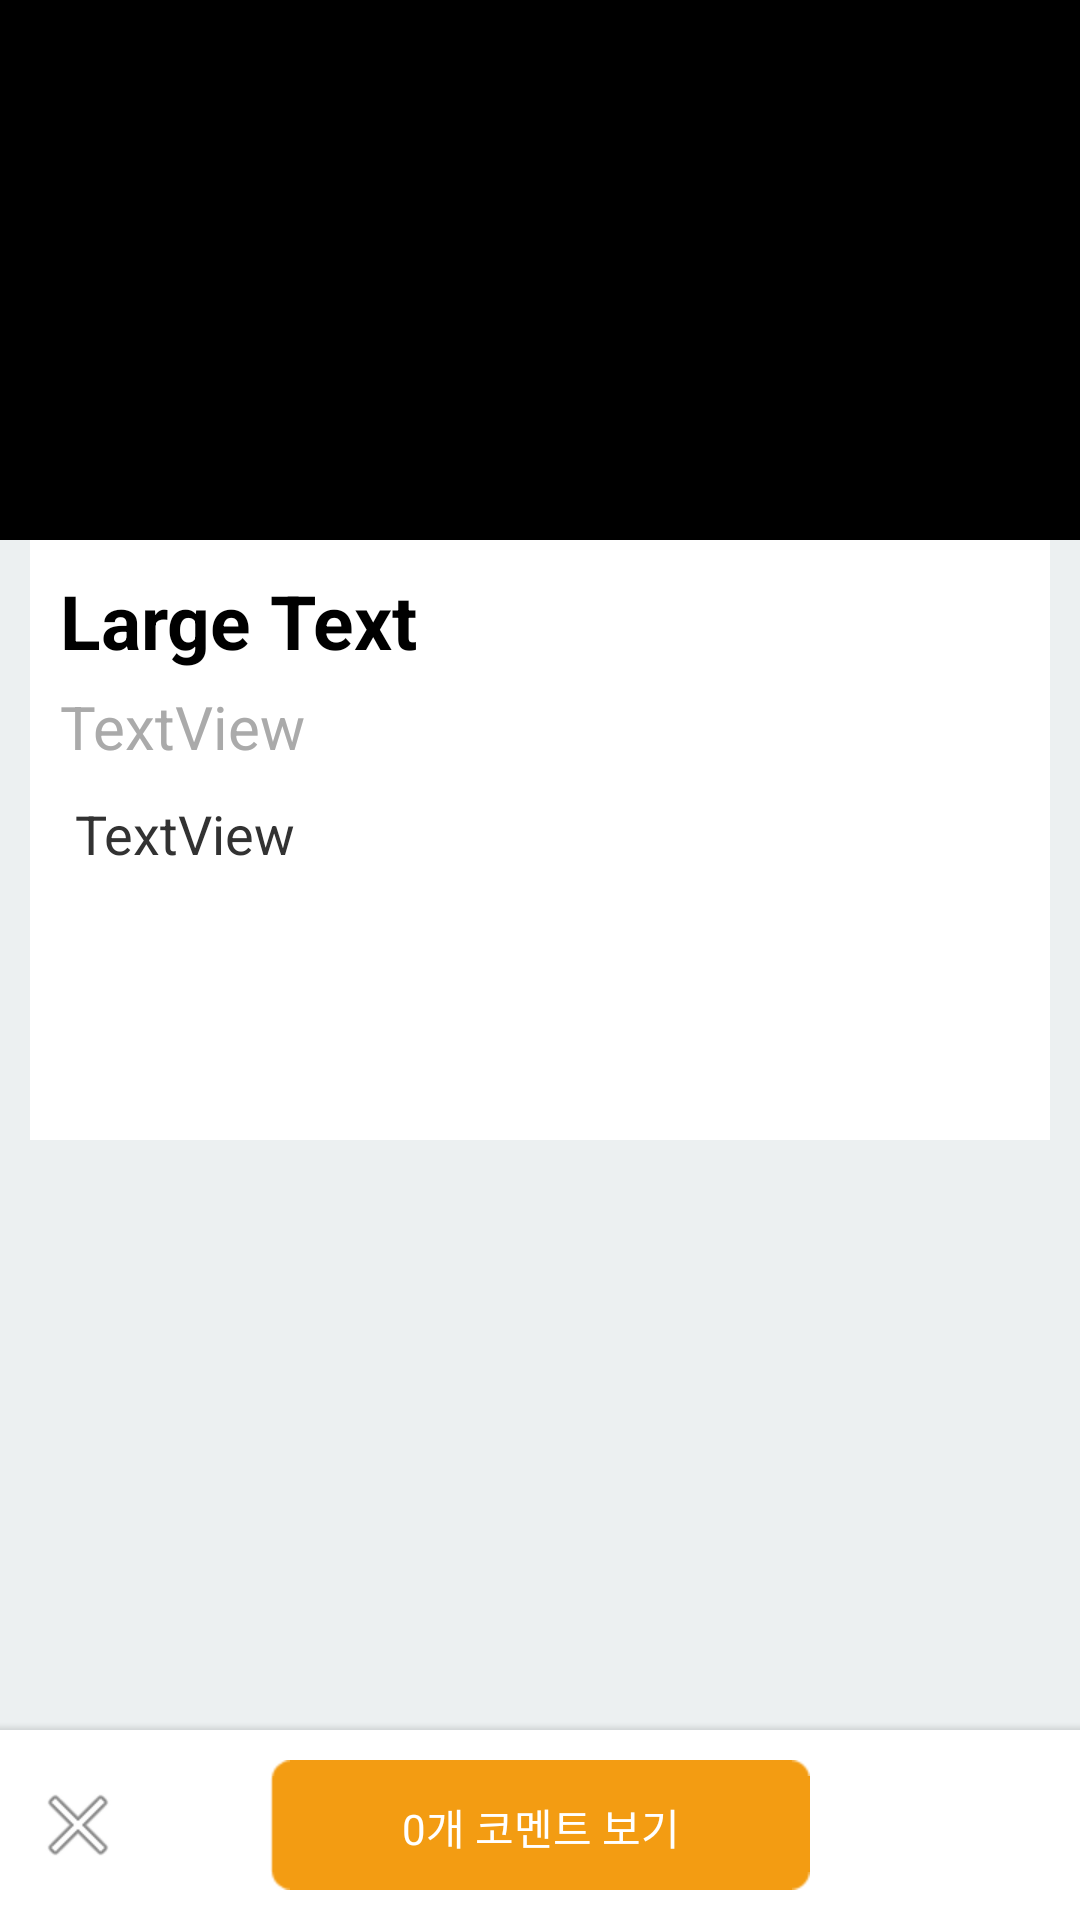

Icons on this 1080 × 1920 Android screen, each with the point to tap as (x=x, y=y):
close clear cancel: (x=78, y=1825)
